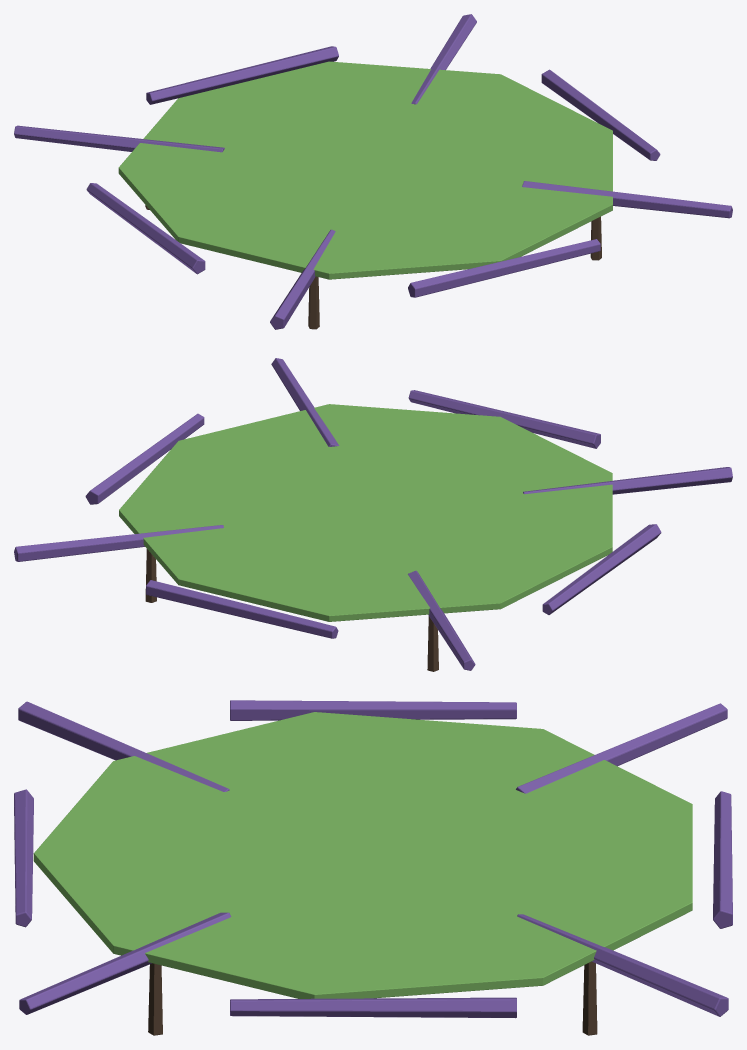
Rendered from trampoline_ground.glb.
3 views of the same model, one above another, from view 1: azimuth 30°, elevation 25°; view 2: azimuth 150°, elevation 25°; view 3: azimuth 270°, elevation 25° (orthographic). The views are drawn at different scales.
Visible parts, largest first — view 1: trampoline_ground_part_8, trampoline_ground_part_2, trampoline_ground_part_6, trampoline_ground_part_1, trampoline_ground_part_5, trampoline_ground_part_4, trampoline_ground_part_0, trampoline_ground_part_3, trampoline_ground_part_7, trampoline_ground_part_10; view 2: trampoline_ground_part_8, trampoline_ground_part_6, trampoline_ground_part_2, trampoline_ground_part_7, trampoline_ground_part_3, trampoline_ground_part_4, trampoline_ground_part_0, trampoline_ground_part_5, trampoline_ground_part_1, trampoline_ground_part_9; view 3: trampoline_ground_part_8, trampoline_ground_part_0, trampoline_ground_part_4, trampoline_ground_part_7, trampoline_ground_part_1, trampoline_ground_part_5, trampoline_ground_part_3, trampoline_ground_part_2, trampoline_ground_part_6, trampoline_ground_part_11, trampoline_ground_part_12.
Boxes of the visible parts, left/top/right/bottom form: trampoline_ground_part_8: left=118, top=61, right=612, bottom=279; trampoline_ground_part_2: left=408, top=239, right=600, bottom=297; trampoline_ground_part_6: left=146, top=46, right=338, bottom=104; trampoline_ground_part_1: left=522, top=181, right=732, bottom=218; trampoline_ground_part_5: left=14, top=125, right=224, bottom=152; trampoline_ground_part_4: left=86, top=183, right=205, bottom=274; trampoline_ground_part_0: left=541, top=69, right=660, bottom=160; trampoline_ground_part_3: left=270, top=229, right=335, bottom=329; trampoline_ground_part_7: left=411, top=14, right=476, bottom=104; trampoline_ground_part_10: left=308, top=276, right=319, bottom=329; trampoline_ground_part_8: left=119, top=404, right=612, bottom=621; trampoline_ground_part_6: left=146, top=580, right=338, bottom=638; trampoline_ground_part_2: left=408, top=390, right=600, bottom=448; trampoline_ground_part_7: left=14, top=525, right=223, bottom=561; trampoline_ground_part_3: left=523, top=467, right=732, bottom=494; trampoline_ground_part_4: left=542, top=524, right=661, bottom=614; trampoline_ground_part_0: left=85, top=413, right=204, bottom=504; trampoline_ground_part_5: left=408, top=570, right=475, bottom=670; trampoline_ground_part_1: left=271, top=358, right=339, bottom=446; trampoline_ground_part_9: left=427, top=616, right=438, bottom=671; trampoline_ground_part_8: left=33, top=712, right=692, bottom=998; trampoline_ground_part_0: left=230, top=997, right=516, bottom=1018; trampoline_ground_part_4: left=230, top=700, right=516, bottom=720; trampoline_ground_part_7: left=517, top=914, right=728, bottom=1016; trampoline_ground_part_1: left=19, top=912, right=231, bottom=1014; trampoline_ground_part_5: left=516, top=703, right=727, bottom=793; trampoline_ground_part_3: left=18, top=701, right=229, bottom=791; trampoline_ground_part_2: left=14, top=789, right=33, bottom=927; trampoline_ground_part_6: left=713, top=791, right=732, bottom=928; trampoline_ground_part_11: left=582, top=961, right=597, bottom=1035; trampoline_ground_part_12: left=148, top=963, right=162, bottom=1035.
Size of the model in its own units: 7.01 by 0.9762 by 6.98.
